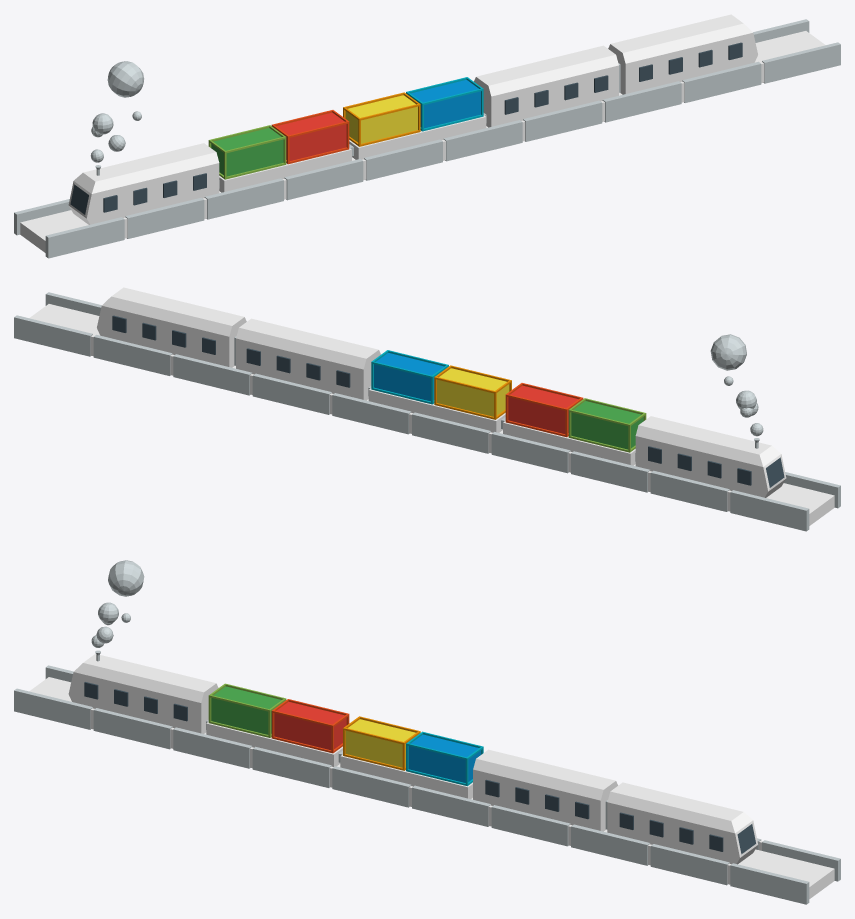
The model's file is 6X1U8lVwEzE.glb.
3 views of the same model, one above another, from view 1: azimuth 30°, elevation 25°; view 2: azimuth 150°, elevation 25°; view 3: azimuth 330°, elevation 25° (orthographic).
Parts seen in each view (by area): view 1: group1506634217, group712213963, group1903647590, group990904770, group37163894, group256404921, group818256975, group383373431, group70629715, group1097557601, group1627298130, group1949583337 (+11 smaller); view 2: group1506634217, group712213963, group1903647590, group990904770, group37163894, group256404921, group818256975, group383373431, group1688537978, group182075625, group1715728129, group590278745 (+11 smaller); view 3: group1903647590, group712213963, group1506634217, group990904770, group383373431, group818256975, group256404921, group37163894, group1868460268, group1097557601, group1949583337, group1168345036 (+10 smaller).
Part boxes in pixels (x1,y1,x2,y2): group1506634217: (68,143,219,224); group712213963: (474,45,618,127); group1903647590: (608,14,757,94); group990904770: (20,31,825,252); group37163894: (345,95,417,143); group256404921: (211,128,283,176); group818256975: (410,80,480,128); group383373431: (276,112,346,160); group70629715: (45,217,124,258); group1097557601: (125,197,204,238); group1627298130: (682,61,761,102); group1949583337: (284,159,363,200); group1506634217: (635,416,786,497); group712213963: (236,318,380,400); group1903647590: (97,287,246,367); group990904770: (29,304,834,525); group37163894: (437,368,509,416); group256404921: (571,401,643,449); group818256975: (374,353,443,401); group383373431: (508,385,578,433); group1688537978: (730,490,809,531); group182075625: (650,470,729,511); group1715728129: (93,334,172,375); group590278745: (252,373,331,414); group1903647590: (607,782,758,864); group712213963: (473,749,617,831); group1506634217: (68,653,218,733); group990904770: (29,677,834,898); group383373431: (274,702,346,750); group818256975: (408,734,480,782); group256404921: (211,686,281,734); group37163894: (345,719,415,767); group1868460268: (730,863,809,904); group1097557601: (93,708,172,749); group1949583337: (252,746,331,787); group1168345036: (491,805,570,846).
Bounding box in the file's own units: 4.78 × 0.9208 × 0.36.
